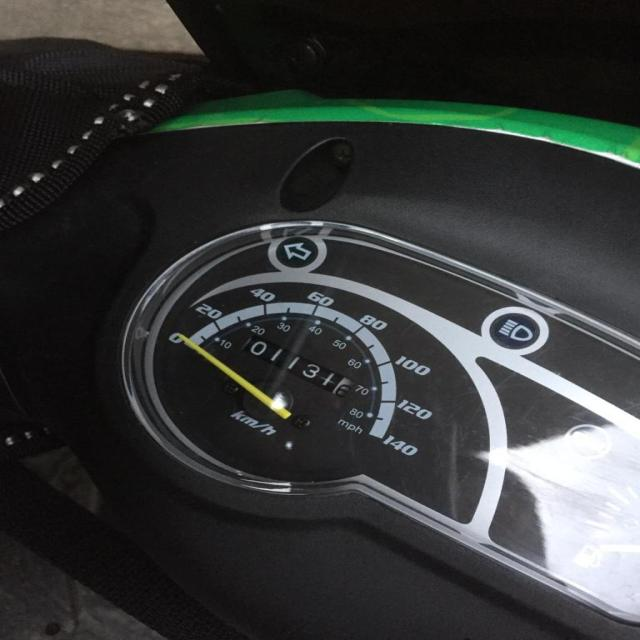odometer: (237, 333, 356, 398)
